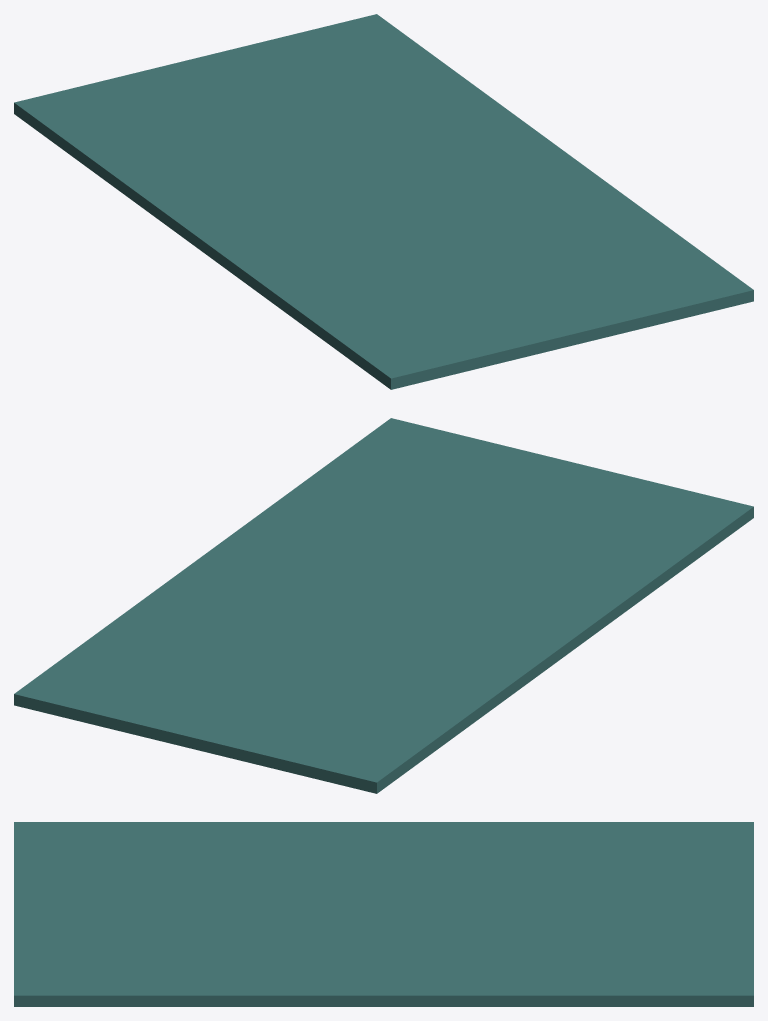
File: floor.fbx
3 renders of one model, top to bottom at view 1: azimuth 30°, elevation 25°; view 2: azimuth 150°, elevation 25°; view 3: azimuth 270°, elevation 25°, orthographic.
Parts seen in each view (by area): view 1: Floor; view 2: Floor; view 3: Floor.
Boxes of the visible parts, x1,y1,x2,y2 form: Floor: [14, 14, 753, 389]; Floor: [14, 418, 753, 793]; Floor: [14, 822, 753, 1006].
Size of the model in its own units: 375 by 11.22 by 674.
